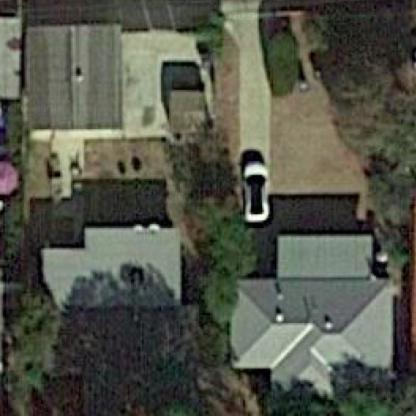car: (230, 148, 275, 231)
